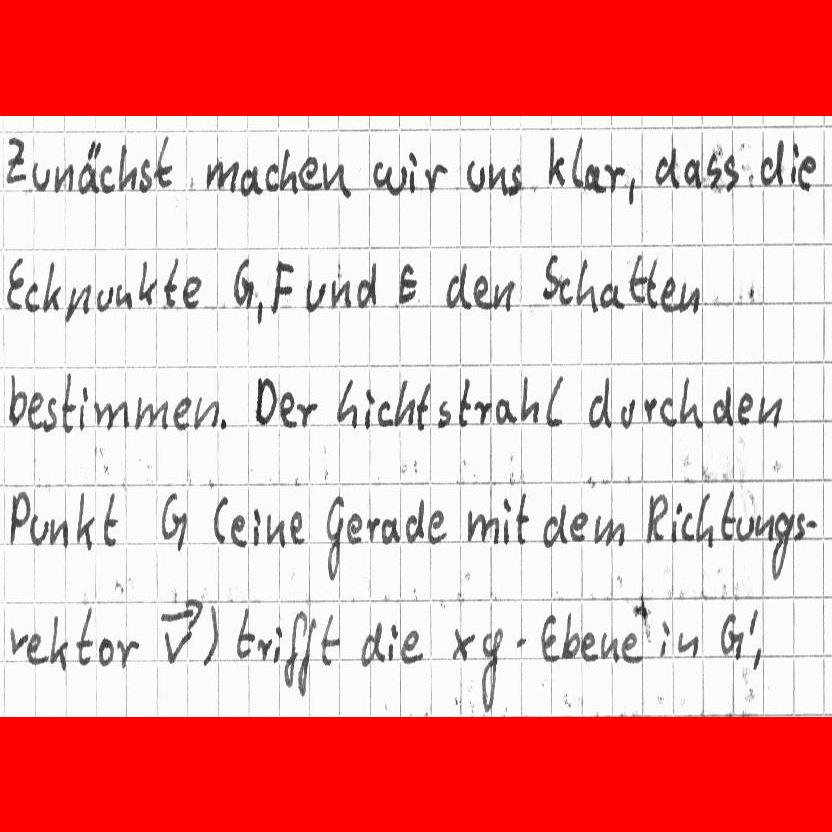Char: (158, 489, 190, 556), (478, 626, 503, 709), (282, 610, 306, 687), (324, 494, 344, 583), (158, 595, 203, 632), (297, 616, 316, 695), (770, 507, 790, 582), (46, 612, 70, 673), (623, 602, 647, 662), (229, 255, 255, 309), (587, 376, 613, 430), (677, 374, 702, 430), (269, 258, 295, 311), (444, 258, 470, 311), (321, 157, 353, 200), (644, 490, 669, 545), (2, 132, 26, 189), (5, 370, 28, 428), (759, 136, 785, 187), (719, 611, 745, 661), (203, 156, 239, 192), (335, 374, 358, 430), (518, 373, 541, 429), (373, 160, 408, 196), (78, 139, 100, 196), (574, 257, 597, 311), (7, 490, 30, 544), (96, 396, 131, 431), (160, 629, 194, 665), (75, 488, 94, 552), (254, 373, 276, 428), (541, 500, 566, 548), (134, 395, 167, 431), (466, 507, 497, 545), (654, 144, 679, 190), (64, 280, 90, 324), (746, 606, 762, 677), (201, 603, 219, 666), (234, 605, 254, 660), (153, 136, 173, 191), (540, 250, 561, 302), (545, 375, 565, 429), (319, 611, 339, 665), (355, 259, 376, 310), (546, 134, 565, 190), (4, 255, 23, 311), (395, 260, 418, 306), (359, 622, 383, 666), (593, 515, 624, 549), (76, 608, 94, 666), (118, 141, 138, 193), (137, 258, 158, 307), (394, 378, 414, 429), (162, 255, 180, 310), (697, 492, 715, 547), (404, 495, 424, 544), (755, 393, 782, 429), (43, 259, 61, 312), (539, 613, 559, 660), (628, 251, 645, 306), (331, 259, 350, 308), (102, 490, 118, 548), (719, 487, 736, 541), (192, 394, 218, 429), (211, 493, 228, 546), (450, 625, 474, 662), (561, 611, 579, 660), (400, 628, 422, 666), (304, 276, 325, 315), (61, 373, 75, 431), (515, 491, 530, 545), (712, 386, 732, 426), (422, 162, 447, 194), (281, 147, 298, 194), (299, 155, 320, 193), (115, 634, 137, 670), (416, 379, 431, 431), (8, 624, 29, 661), (28, 512, 50, 547), (427, 507, 447, 545), (491, 278, 514, 311), (678, 280, 699, 316), (646, 255, 660, 309), (463, 157, 484, 193), (457, 377, 472, 427), (601, 280, 625, 311), (583, 163, 606, 195), (797, 154, 816, 192), (172, 395, 192, 431), (721, 151, 738, 193), (239, 165, 262, 196), (600, 629, 620, 664), (602, 161, 622, 196), (676, 630, 700, 659), (487, 161, 506, 197), (54, 162, 75, 194), (182, 274, 201, 309), (704, 149, 721, 188), (48, 517, 69, 548), (29, 161, 50, 192), (472, 275, 490, 311), (616, 396, 635, 430), (568, 510, 588, 542), (279, 387, 295, 427), (754, 511, 775, 541), (28, 390, 44, 429), (570, 140, 583, 188), (43, 393, 59, 432), (297, 400, 319, 428), (267, 516, 286, 548), (95, 284, 115, 313), (736, 392, 753, 426), (96, 635, 113, 669), (662, 277, 678, 313), (625, 170, 641, 206), (289, 508, 305, 544), (434, 399, 453, 429), (682, 158, 701, 188), (138, 156, 153, 194), (346, 511, 362, 546), (658, 618, 672, 658), (659, 396, 677, 427), (26, 632, 44, 663), (115, 281, 134, 310), (230, 512, 245, 548), (496, 397, 515, 425), (381, 517, 400, 545), (473, 398, 492, 426), (582, 630, 598, 662), (742, 144, 754, 186), (99, 163, 115, 194), (249, 507, 262, 545), (508, 164, 523, 196), (682, 509, 697, 541), (735, 516, 754, 541), (789, 139, 799, 186), (408, 151, 419, 193), (77, 387, 88, 429), (502, 497, 512, 543), (386, 624, 398, 662), (643, 392, 657, 424), (24, 284, 40, 312), (363, 388, 374, 428), (272, 624, 283, 664), (255, 633, 270, 662), (265, 166, 281, 192), (671, 501, 681, 542), (557, 277, 572, 304), (377, 399, 391, 427), (792, 510, 805, 538), (364, 516, 377, 541), (743, 281, 758, 302), (512, 633, 528, 652), (255, 297, 265, 327), (805, 517, 819, 538), (219, 415, 231, 431)
